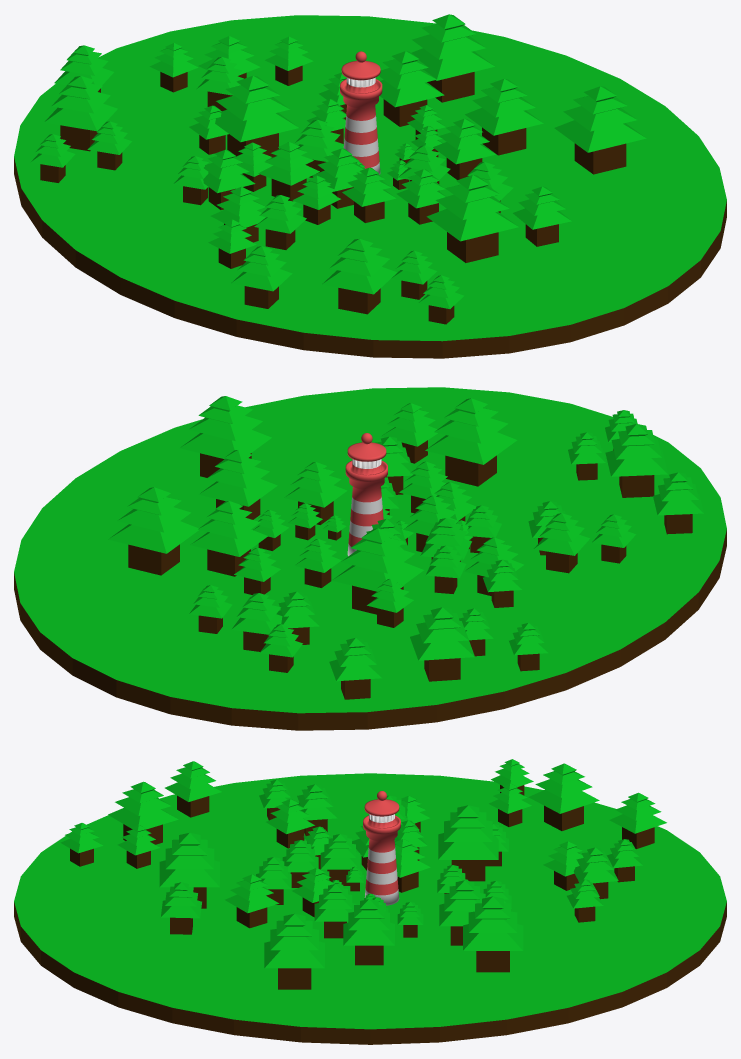
The model's file is phare.glb.
3 renders of one model, top to bottom at view 1: azimuth 30°, elevation 25°; view 2: azimuth 150°, elevation 25°; view 3: azimuth 270°, elevation 25°, orthographic. The views are drawn at different scales.
Visible parts, largest first — view 1: Cylindre.001, Cube.018, Cube.005, Cube.024, Cube.023, Cylindre, Cube.004, Cube.038, Cube.028, Cube.001, Cube.040, Cube.007 (+27 smaller); view 2: Cylindre.001, Cube.005, Cube.024, Cube.023, Cube.018, Cylindre, Cube.001, Cube.028, Cube.038, Cube.004, Cube.031, Cube.040 (+27 smaller); view 3: Cylindre.001, Cube.018, Cube.024, Cylindre, Cube.023, Cube.005, Cube.028, Cube.004, Cube.038, Cube.040, Cube.031, Cube.001 (+24 smaller).
Boxes of the visible parts, <box> form: Cylindre.001: <box>14,15,726,358</box>; Cube.018: <box>554,86,646,174</box>; Cube.005: <box>426,175,518,262</box>; Cube.024: <box>411,14,494,102</box>; Cube.023: <box>215,75,298,157</box>; Cylindre: <box>340,51,382,174</box>; Cube.004: <box>465,78,543,155</box>; Cube.038: <box>322,238,397,314</box>; Cube.028: <box>44,76,117,151</box>; Cube.001: <box>378,51,444,126</box>; Cube.040: <box>231,246,292,308</box>; Cube.007: <box>433,118,495,179</box>; Cylindre.001: <box>14,387,726,730</box>; Cube.005: <box>425,398,517,486</box>; Cube.024: <box>108,487,198,575</box>; Cube.023: <box>332,528,423,614</box>; Cube.018: <box>180,396,271,477</box>; Cylindre: <box>345,433,387,556</box>; Cube.001: <box>190,501,267,576</box>; Cube.028: <box>410,607,474,681</box>; Cube.038: <box>605,424,667,497</box>; Cube.004: <box>199,450,277,519</box>; Cube.031: <box>329,637,381,699</box>; Cube.040: <box>653,472,703,534</box>; Cylindre.001: <box>14,773,726,1044</box>; Cube.018: <box>264,913,324,989</box>; Cube.024: <box>463,896,523,972</box>; Cylindre: <box>363,791,400,905</box>; Cube.023: <box>438,805,498,881</box>; Cube.005: <box>159,832,219,908</box>; Cube.028: <box>528,763,599,830</box>; Cube.004: <box>343,899,394,965</box>; Cube.038: <box>108,781,178,844</box>; Cube.040: <box>165,761,221,817</box>; Cube.031: <box>609,792,666,848</box>; Cube.001: <box>439,880,485,945</box>.
Bounding box in the file's own units: 70.11 × 15.87 × 82.49.
